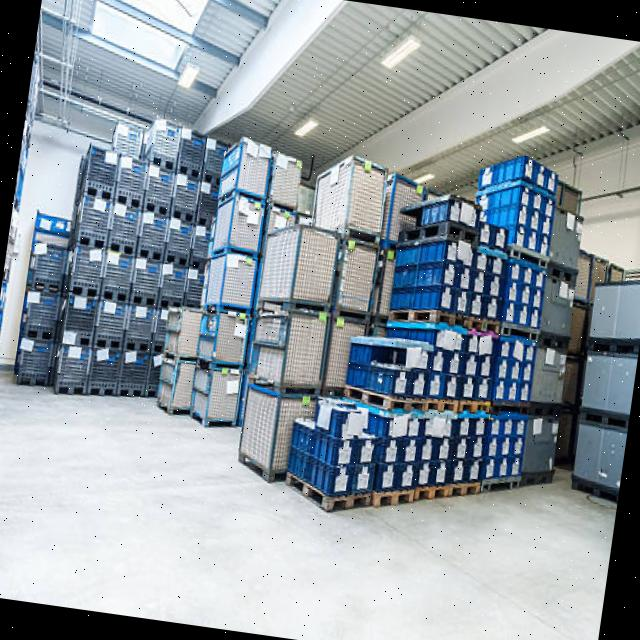Wooden-Pallets: (281, 465, 371, 521), (340, 380, 431, 422), (372, 485, 414, 517), (414, 480, 454, 512), (423, 395, 462, 420)
